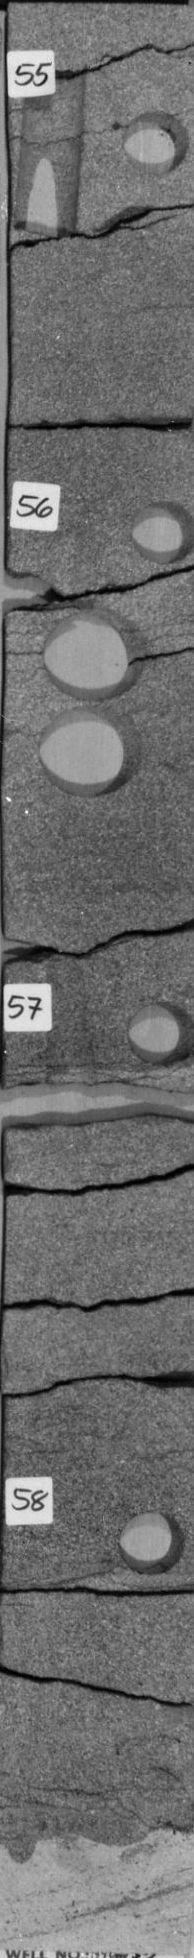hplug: (112, 1500, 188, 1580), (120, 992, 194, 1071), (118, 106, 194, 182), (124, 496, 194, 567)
scal: (38, 606, 158, 708), (32, 710, 150, 804)
vplug: (16, 62, 90, 246), (35, 955, 107, 1084)
